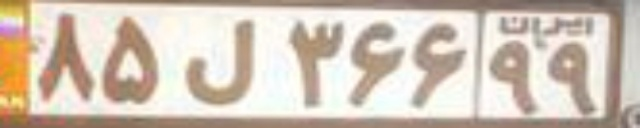3: (287, 20, 344, 108)
5: (104, 16, 159, 103)
6: (350, 22, 402, 108), (410, 22, 461, 109)
7: (37, 13, 97, 102)
9: (486, 39, 535, 114), (546, 41, 594, 115)
lam: (182, 19, 257, 104)
